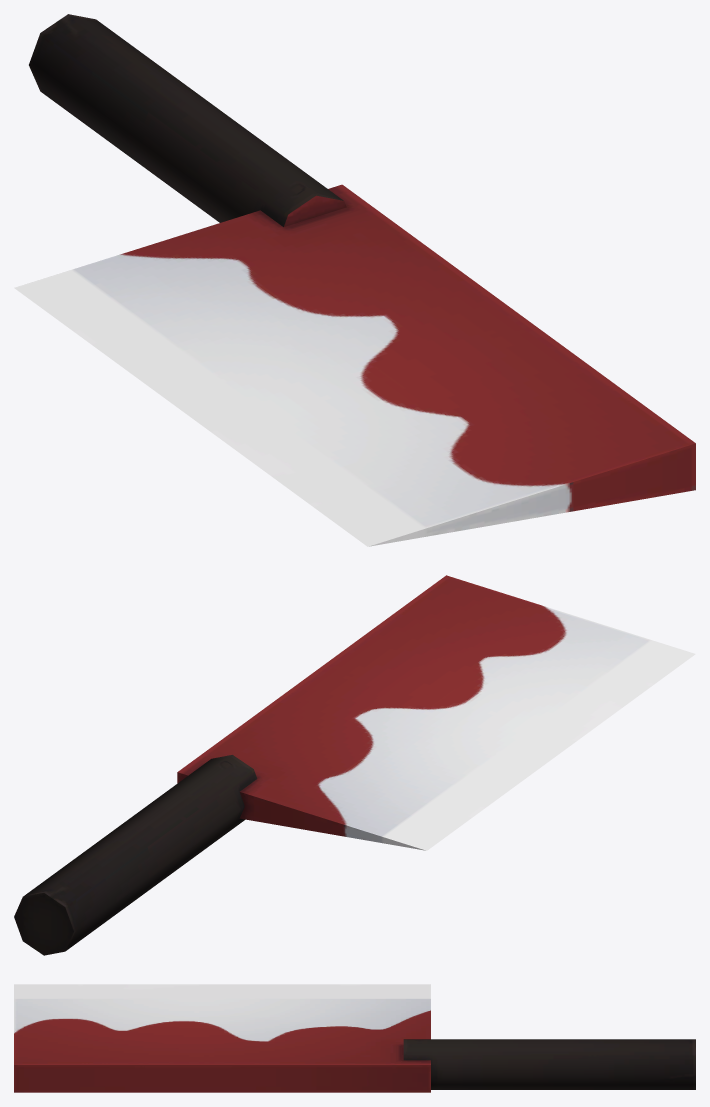
Rendered from M_CleaverA.glb.
3 renders of one model, top to bottom at view 1: azimuth 30°, elevation 25°; view 2: azimuth 150°, elevation 25°; view 3: azimuth 270°, elevation 25°, orthographic. The views are drawn at different scales.
Visible parts, largest first — view 1: SM_CleaverA; view 2: SM_CleaverA; view 3: SM_CleaverA.
Part boxes in pixels (bbox=[...]): SM_CleaverA: bbox=[14, 14, 695, 546]; SM_CleaverA: bbox=[14, 575, 695, 955]; SM_CleaverA: bbox=[14, 984, 695, 1092].
Bounding box in the file's own units: 0.2494 × 0.06 × 0.7611.
1 material, 1 textured.
